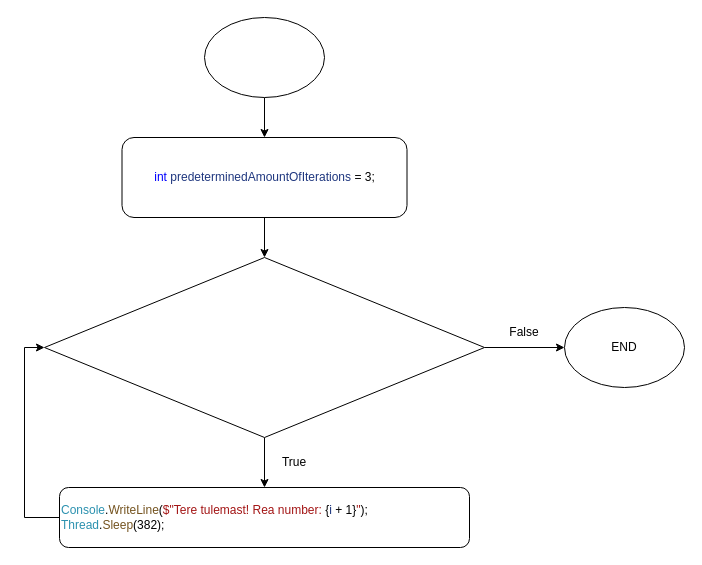
Image size: 702x565. Some labels were removed from this diagram. Here are the shapes that lost their labels. From the top down, the centre of each, then its label:
At (x=264, y=57): "START".
At (x=264, y=347): "for ( int i = 0; i < predeterminedAmountOfIterations ; i ++)".
